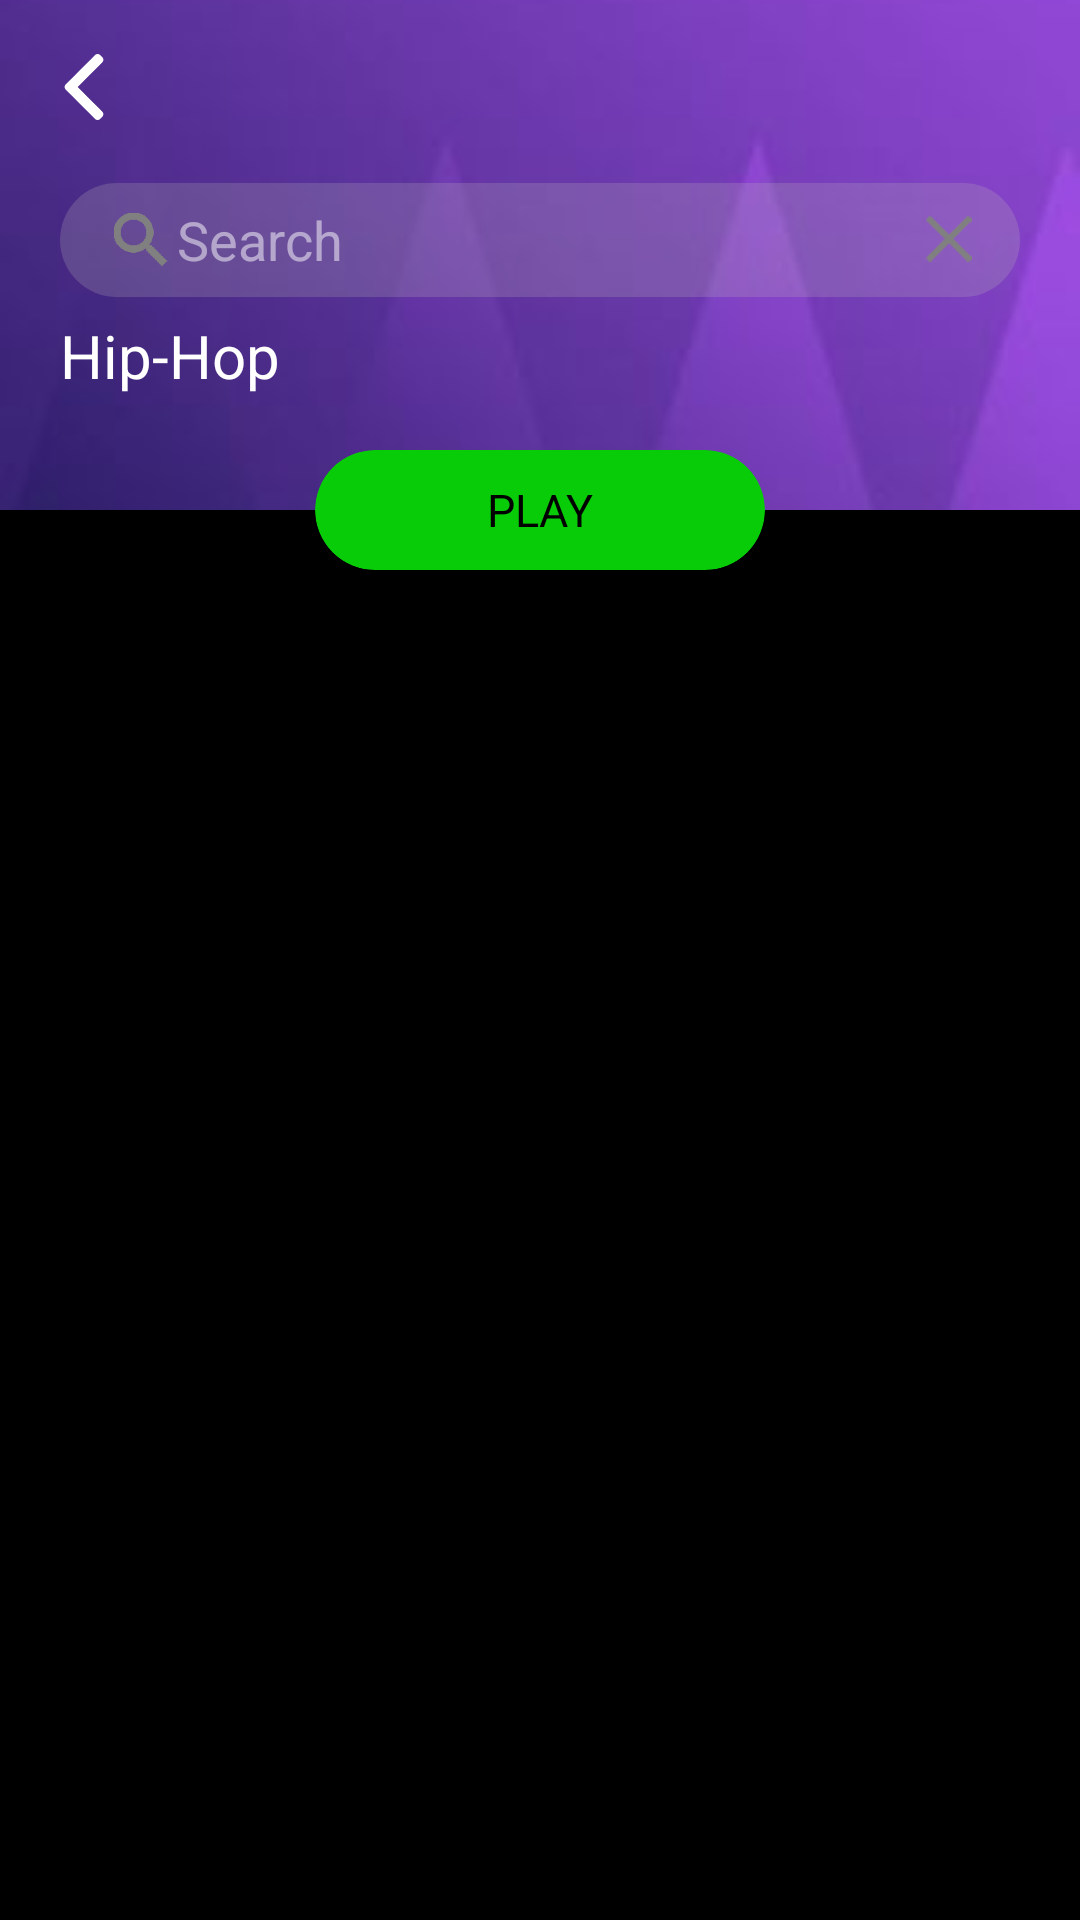

Icon click points for this 1080 x 1920 phone screenshot, format (x,y):
back: (84,87)
